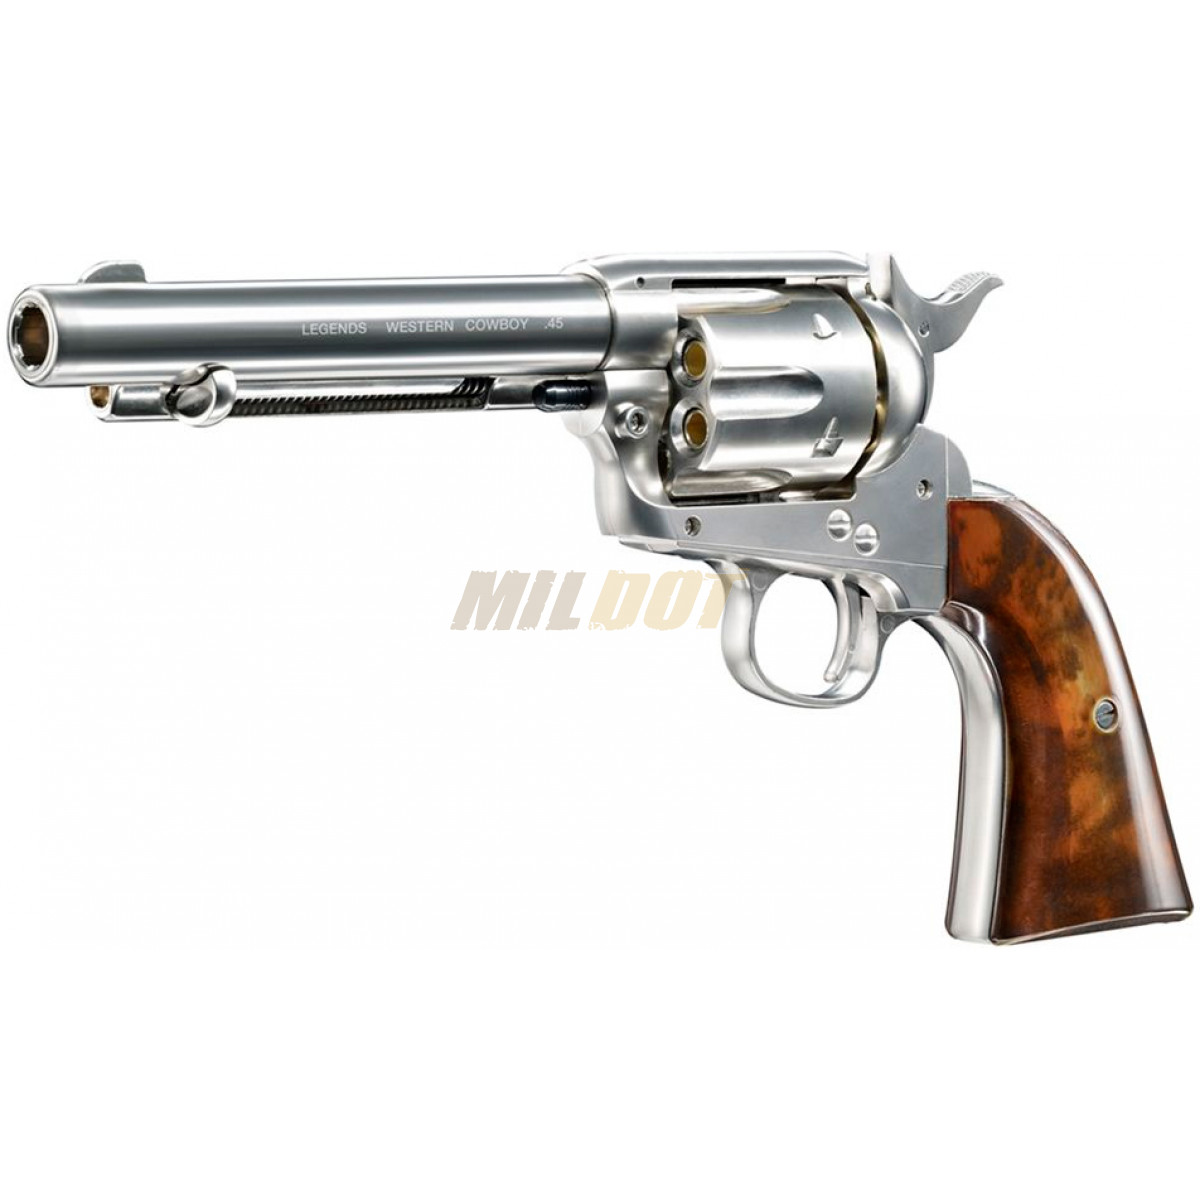Revolver: (8, 202, 1196, 978)
